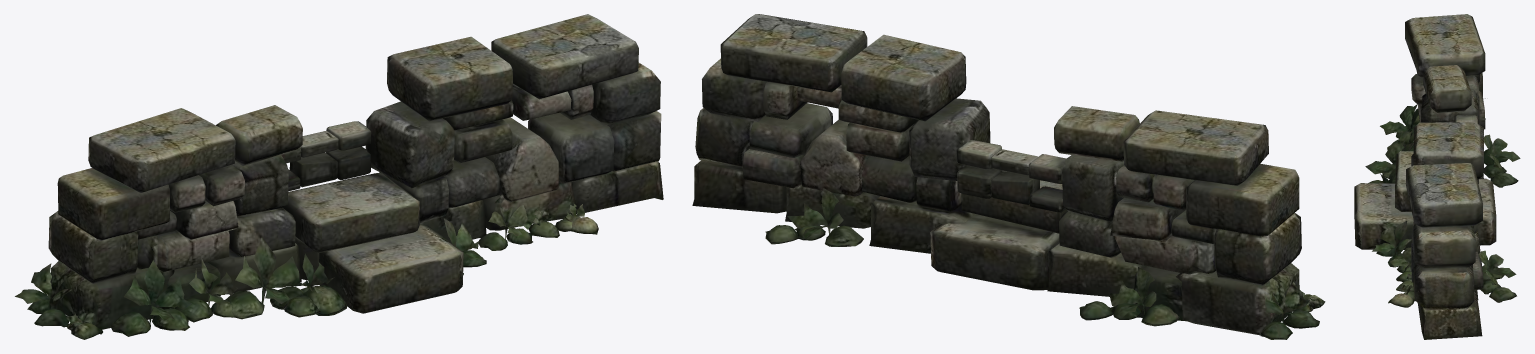
The model's file is act1-a08-2-squeeze-stile.glb.
3 views of the same model, side by side, from view 1: azimuth 30°, elevation 25°; view 2: azimuth 150°, elevation 25°; view 3: azimuth 270°, elevation 25° (orthographic). The views are drawn at different scales.
Parts seen in each view (by area): view 1: act1-a08-2-squeeze-stile; view 2: act1-a08-2-squeeze-stile; view 3: act1-a08-2-squeeze-stile.
Part boxes in pixels (left/top/right/bottom): act1-a08-2-squeeze-stile: left=15, top=14, right=663, bottom=339; act1-a08-2-squeeze-stile: left=692, top=14, right=1325, bottom=339; act1-a08-2-squeeze-stile: left=1354, top=14, right=1520, bottom=339.
Size of the model in its own units: 3.2 by 0.8928 by 1.01.
1 material, 1 textured.
